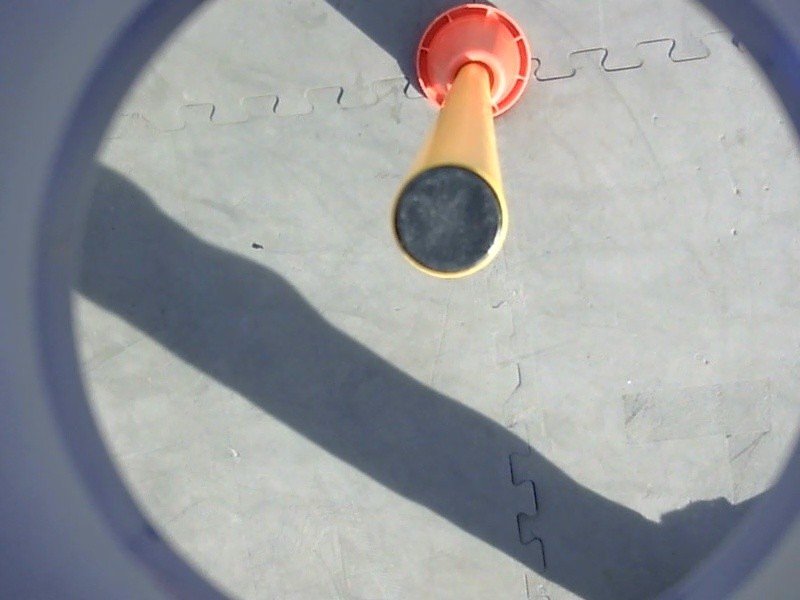tip: (386, 157, 519, 283)
